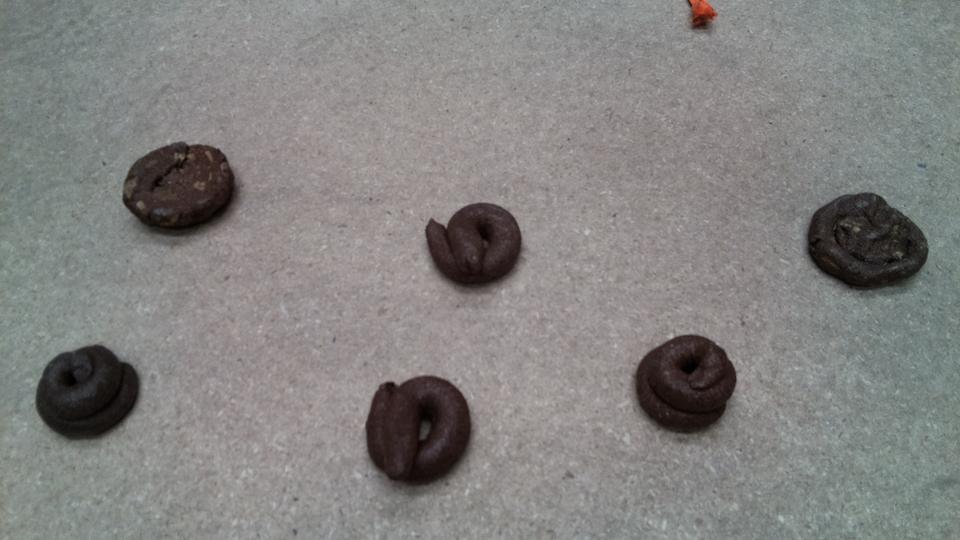poop: (804, 187, 934, 293), (363, 371, 476, 490), (120, 138, 241, 237), (33, 339, 144, 442), (632, 333, 738, 438), (423, 198, 526, 291)
rope: (682, 1, 722, 37)
